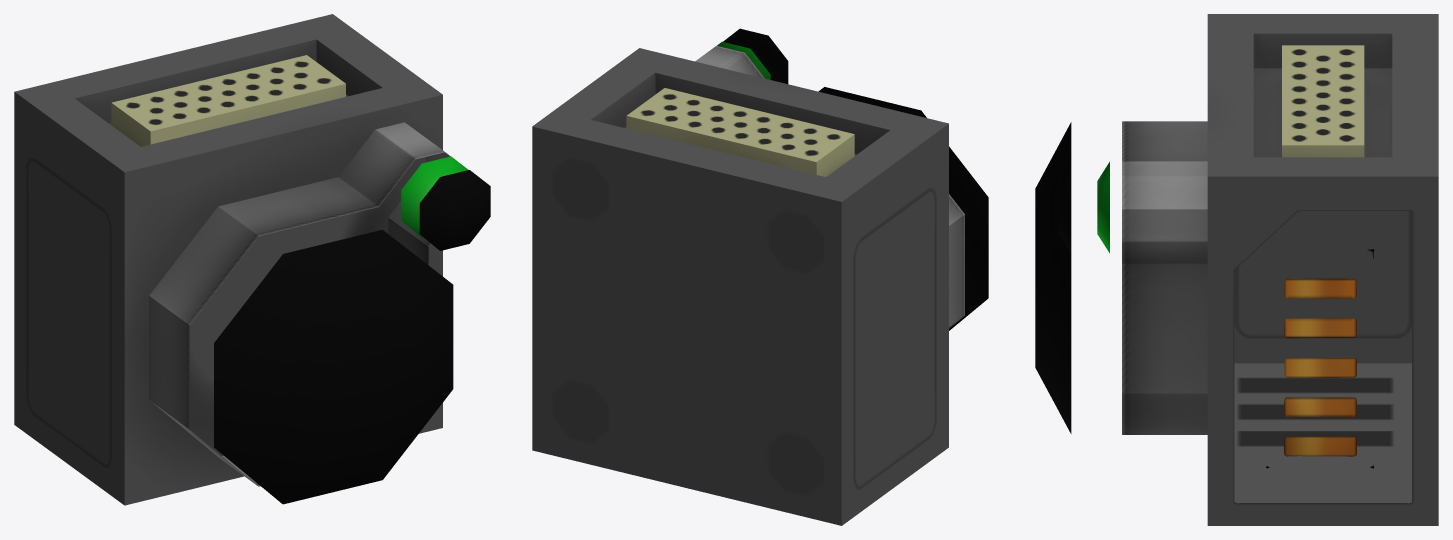
Rendered from obj_interactive_sensor_off.fbx.
3 views of the same model, side by side, from view 1: azimuth 30°, elevation 25°; view 2: azimuth 150°, elevation 25°; view 3: azimuth 270°, elevation 25° (orthographic). The views are drawn at different scales.
Parts seen in each view (by area): view 1: obj_interactive_sensor_off_lod0; view 2: obj_interactive_sensor_off_lod0; view 3: obj_interactive_sensor_off_lod0.
Part boxes in pixels (box(x1,y1,x2,y2)): obj_interactive_sensor_off_lod0: box(14, 14, 490, 505); obj_interactive_sensor_off_lod0: box(532, 28, 988, 525); obj_interactive_sensor_off_lod0: box(1035, 14, 1438, 525).
Bounding box in the file's own units: 1 × 1 × 1.05.
